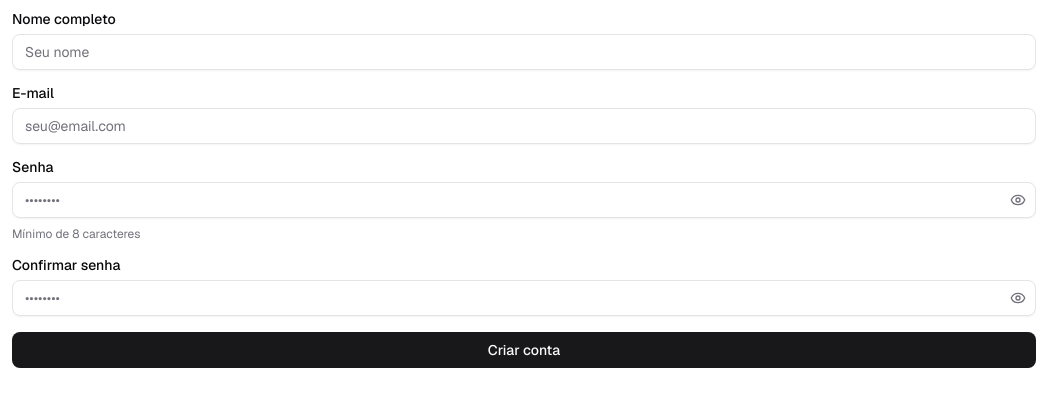
Scenario: RegisterForm › Validação de Formulário › should show error for missing confirmPassword
Type "John Doe" into the field labelled "Nome completo" at (524, 52), box [12, 34, 1036, 70]
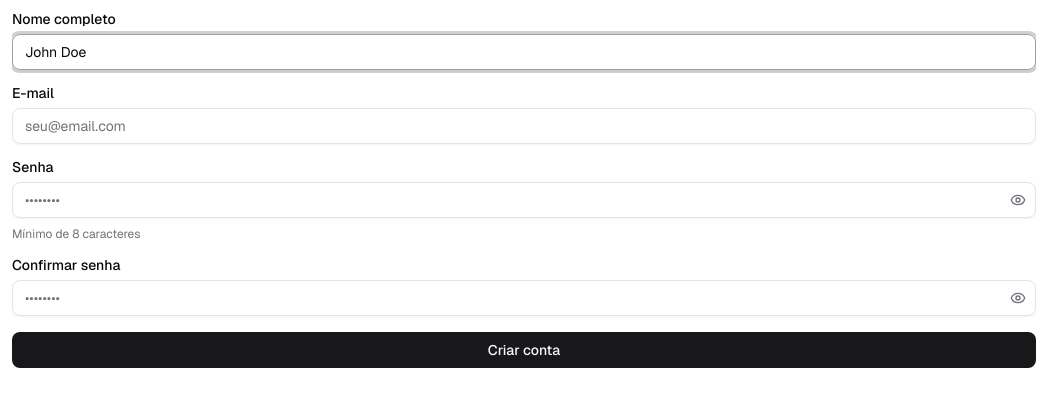
Type "john@example.com" into the field labelled "E-mail" at (524, 126), box [12, 108, 1036, 144]
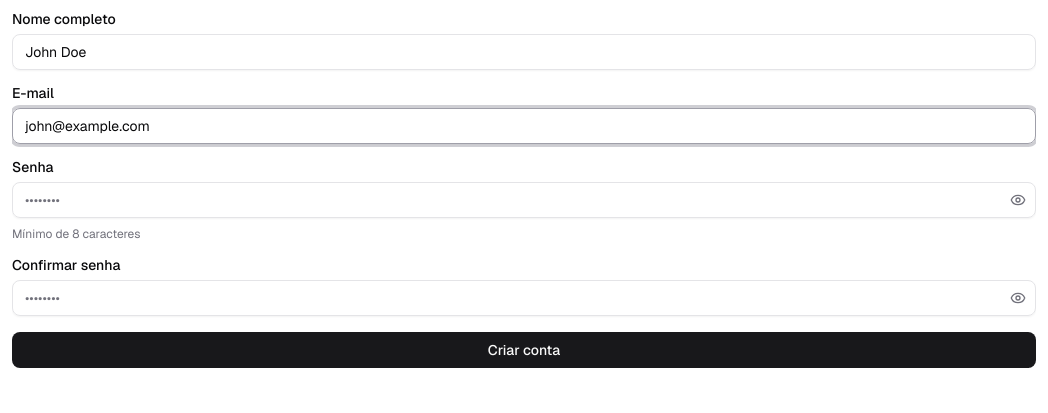
Type "password123" into the password field labelled "Senha" at (524, 200), box [12, 182, 1036, 218]
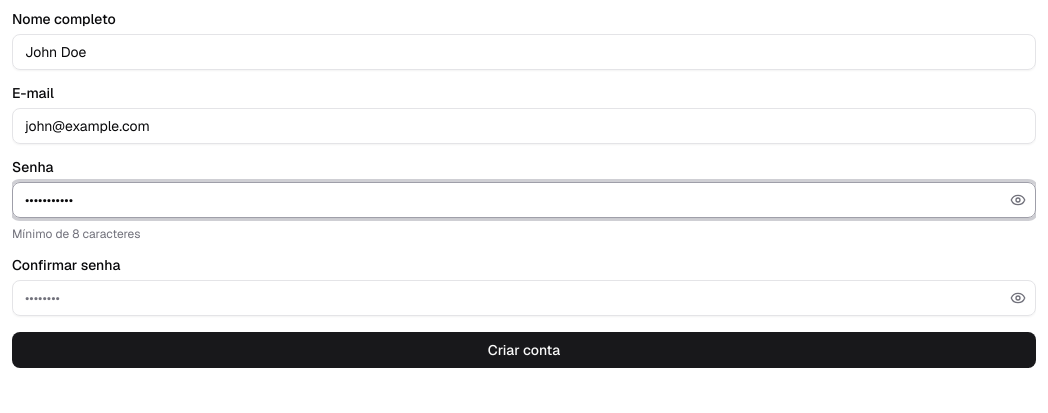
Click the button "Criar conta" at (524, 350), box [12, 332, 1036, 368]
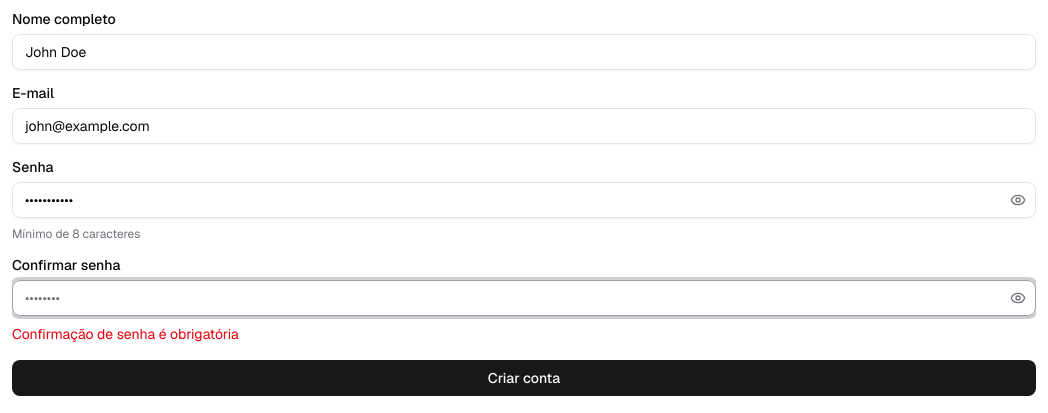
Expected: the text "Confirmação de senha é obrigatória" is shown, [12, 325, 239, 343]
